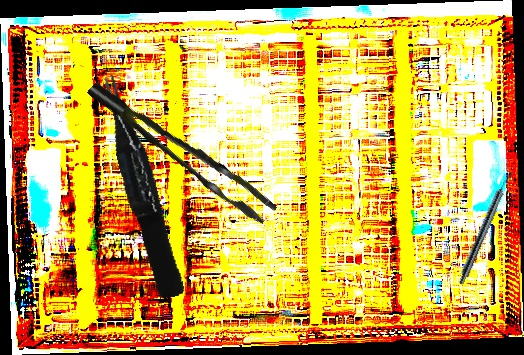Handpiece: (456, 170, 515, 287)
Tissue Forceps: (86, 58, 278, 242), (98, 69, 186, 303)
